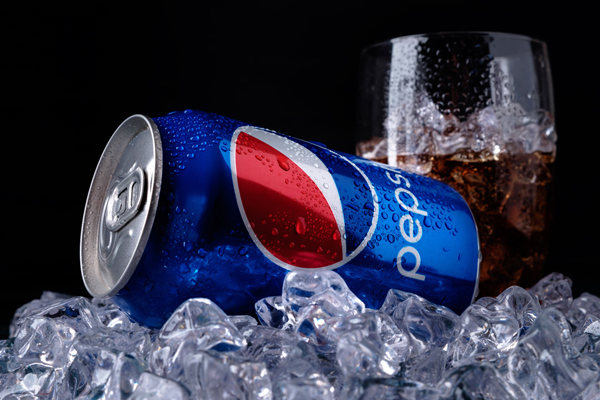can: (77, 103, 484, 351)
